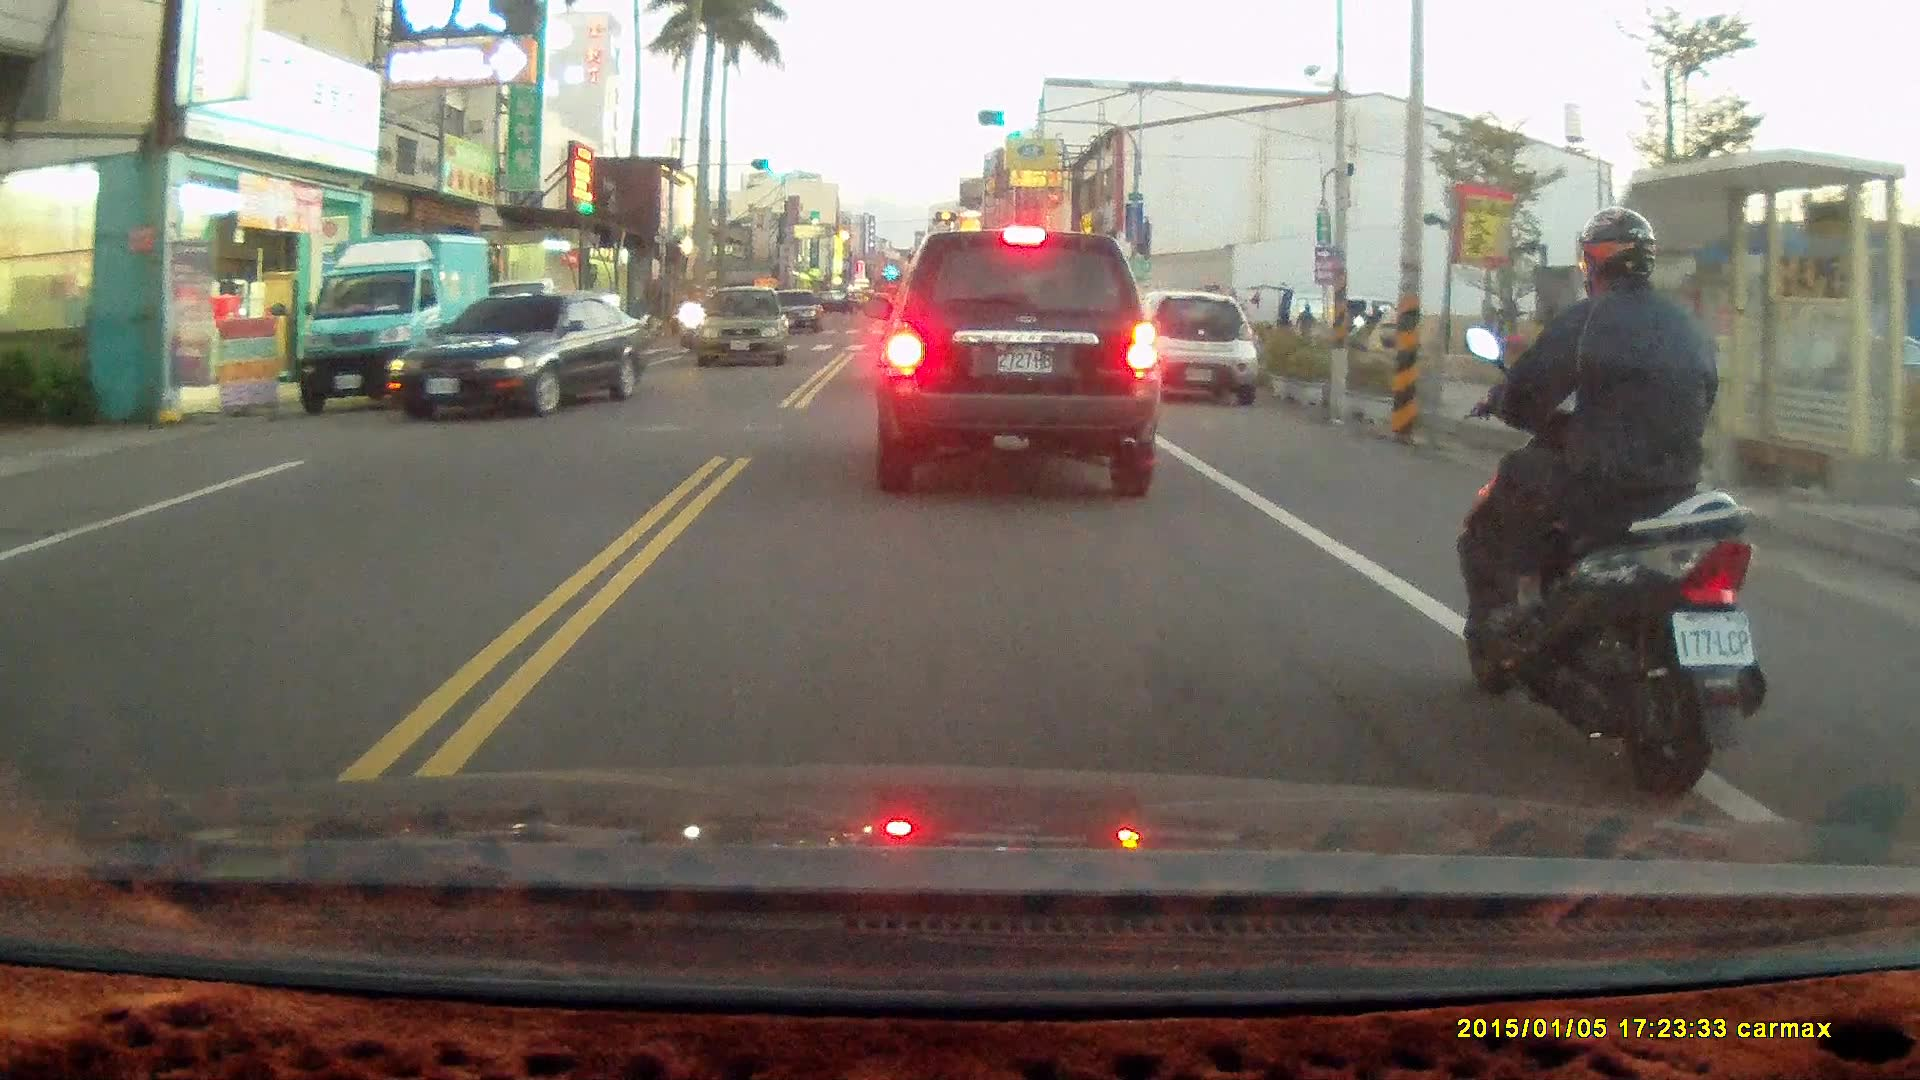rider: (1455, 200, 1766, 795), (675, 282, 710, 358)
vehicle: (874, 228, 1160, 500), (295, 231, 497, 424), (388, 291, 650, 419), (1137, 288, 1260, 408), (693, 286, 795, 371)
